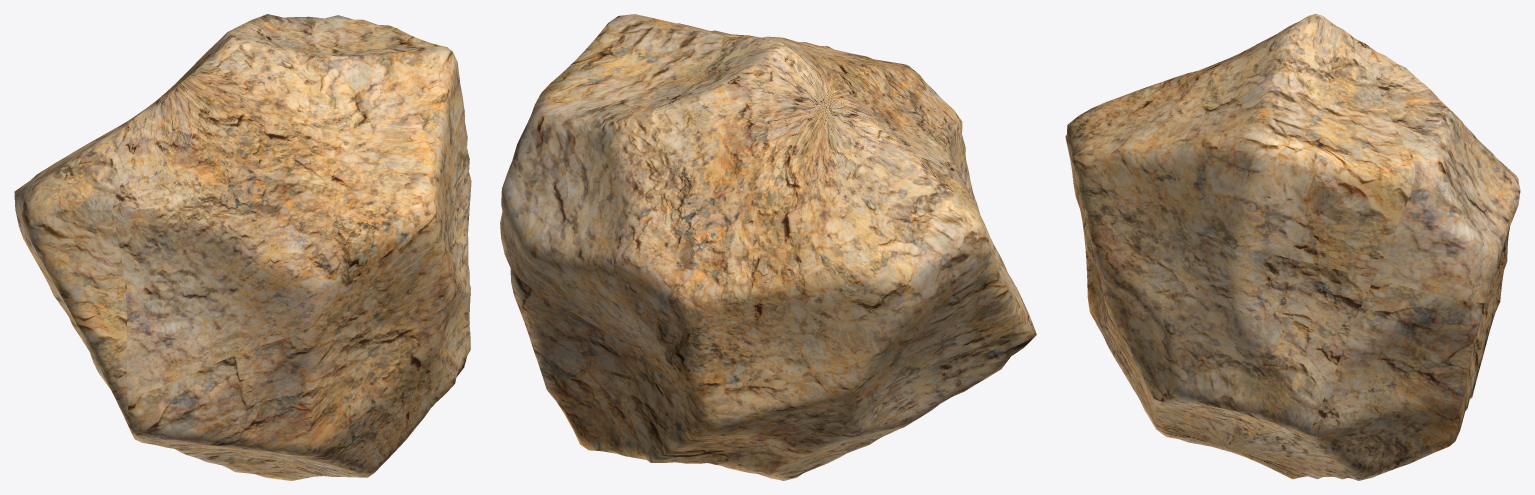
File: sand sten.fbx
3 renders of one model, left to right at view 1: azimuth 30°, elevation 25°; view 2: azimuth 150°, elevation 25°; view 3: azimuth 270°, elevation 25°, orthographic. The views are drawn at different scales.
Parts seen in each view (by area): view 1: GeoSphere001; view 2: GeoSphere001; view 3: GeoSphere001.
Part boxes in pixels (box(x1,y1,x2,y2)): GeoSphere001: box(14, 14, 471, 480); GeoSphere001: box(500, 14, 1036, 480); GeoSphere001: box(1065, 14, 1520, 480).
Bounding box in the file's own units: 89.1 × 91.3 × 86.35.
